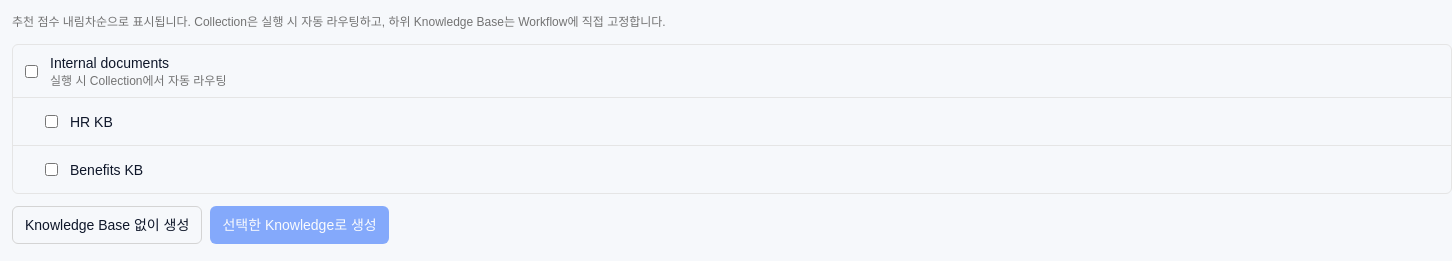
Test case: KnowledgeSelectionControl › toggles a partially selected Collection between all children and none
Click the checkbox labelled "HR KB": (52, 122) x1=45 y1=115 x2=58 y2=128
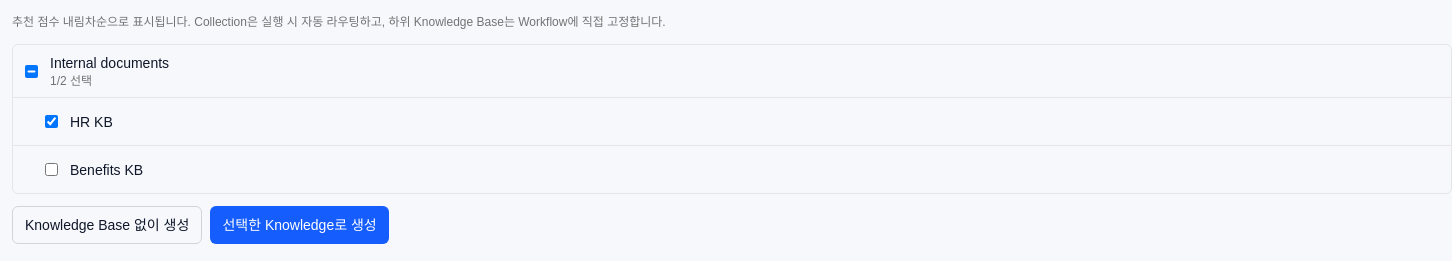
Click the checkbox labelled "Internal documents": (32, 71) x1=25 y1=64 x2=38 y2=78
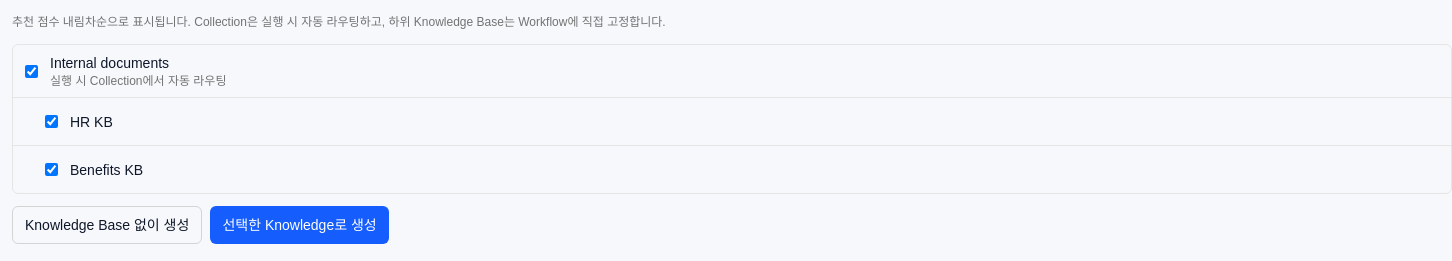
Result: the checkbox labelled "Internal documents" is checked
Result: the checkbox labelled "HR KB" is checked at x1=45 y1=115 x2=58 y2=128
Result: the checkbox labelled "Benefits KB" is checked at x1=45 y1=163 x2=58 y2=176
Click the checkbox labelled "Internal documents": (32, 71) x1=25 y1=64 x2=38 y2=78
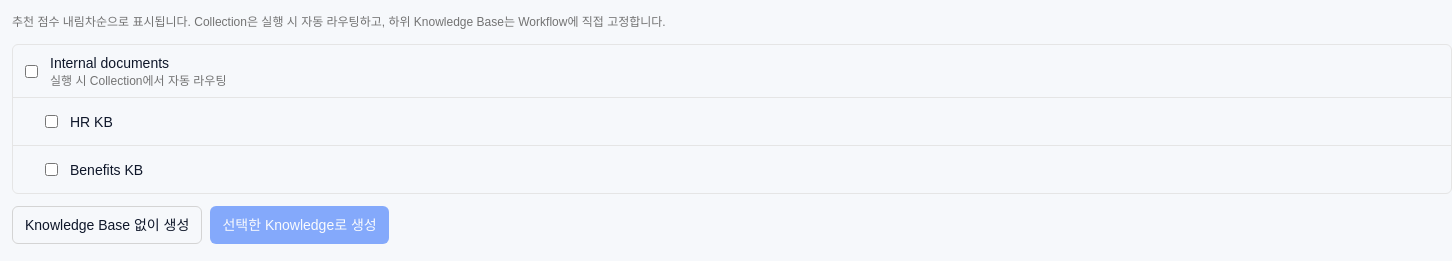
Result: the checkbox labelled "Internal documents" is not checked at x1=25 y1=64 x2=38 y2=78
Result: the checkbox labelled "HR KB" is not checked at x1=45 y1=115 x2=58 y2=128
Result: the checkbox labelled "Benefits KB" is not checked at x1=45 y1=163 x2=58 y2=176
